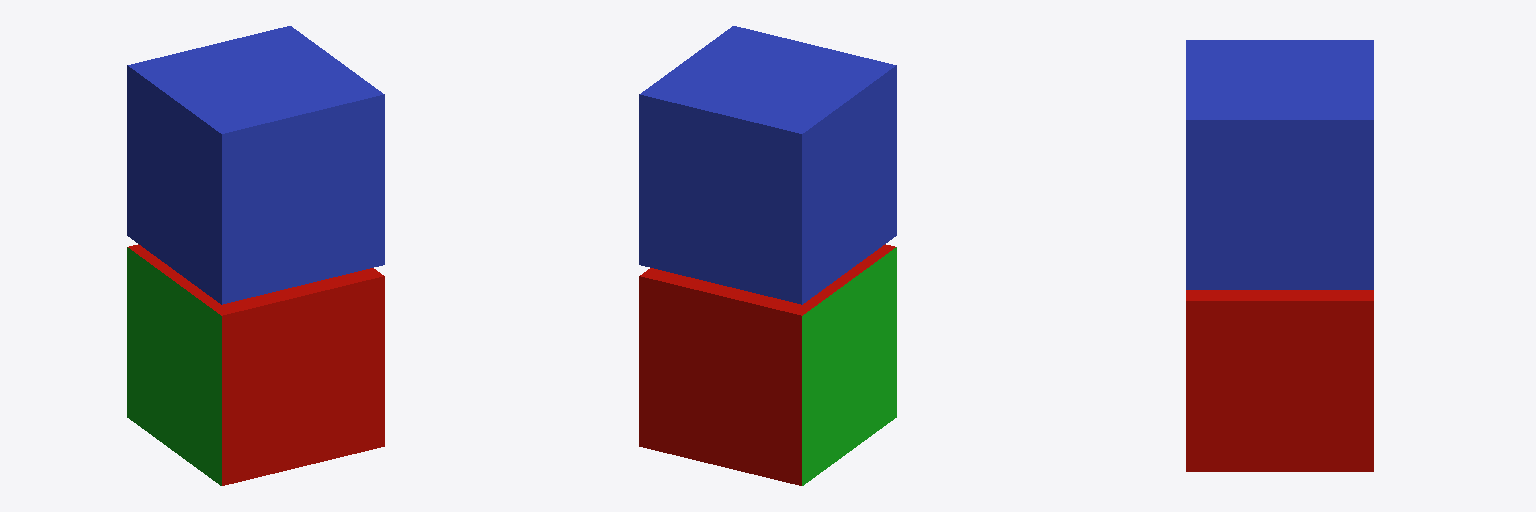
Rendered from 2_Cubes.obj.
The picture shows the model from 3 angles: view 1: azimuth 30°, elevation 25°; view 2: azimuth 150°, elevation 25°; view 3: azimuth 270°, elevation 25°; orthographic projection.
Parts seen in each view (by area): view 1: Cube.002, Cube.001; view 2: Cube.002, Cube.001; view 3: Cube.002, Cube.001.
Boxes of the visible parts, box(x1,y1,x2,y2) form: Cube.002: box(127, 26, 384, 304); Cube.001: box(127, 244, 384, 485); Cube.002: box(639, 26, 896, 304); Cube.001: box(639, 244, 896, 485); Cube.002: box(1186, 40, 1373, 289); Cube.001: box(1186, 290, 1373, 471).
Bounding box in the file's own units: 2 × 4.13 × 2.